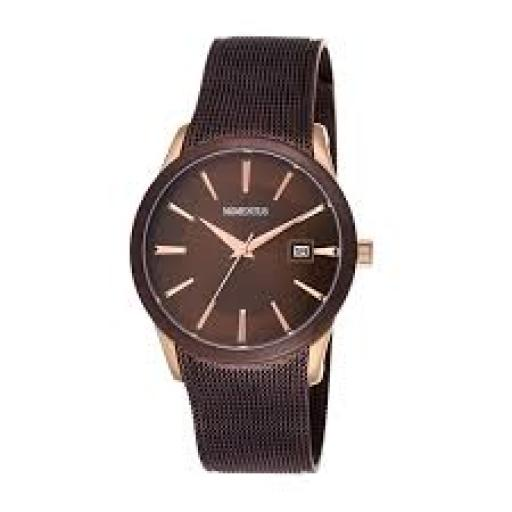KolSaati: (124, 18, 402, 488)
